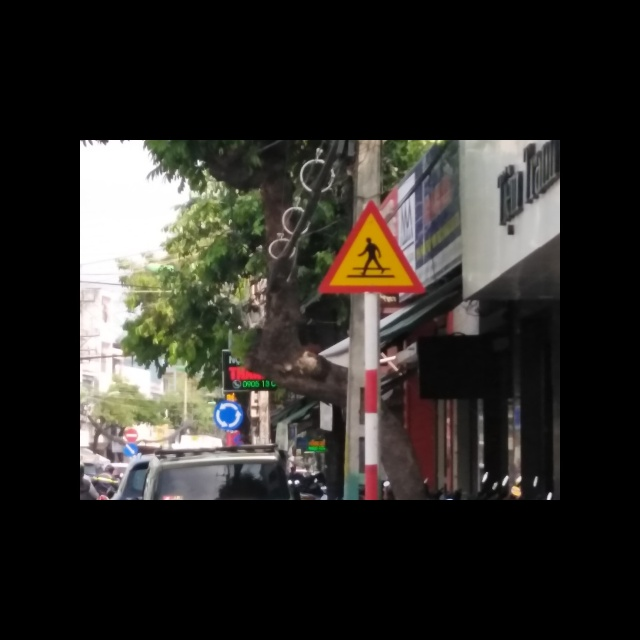Nơi giao nhau chạy theo vòng xuyến: (213, 401, 245, 431)
Đường người đi bộ sang đường: (318, 199, 426, 297)
